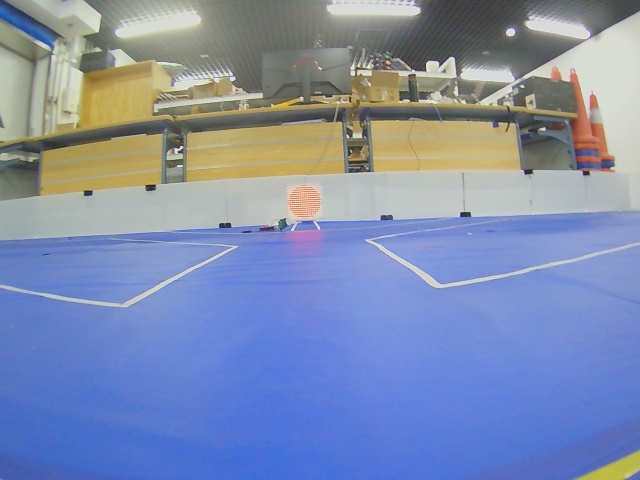red: (288, 185, 322, 220)
